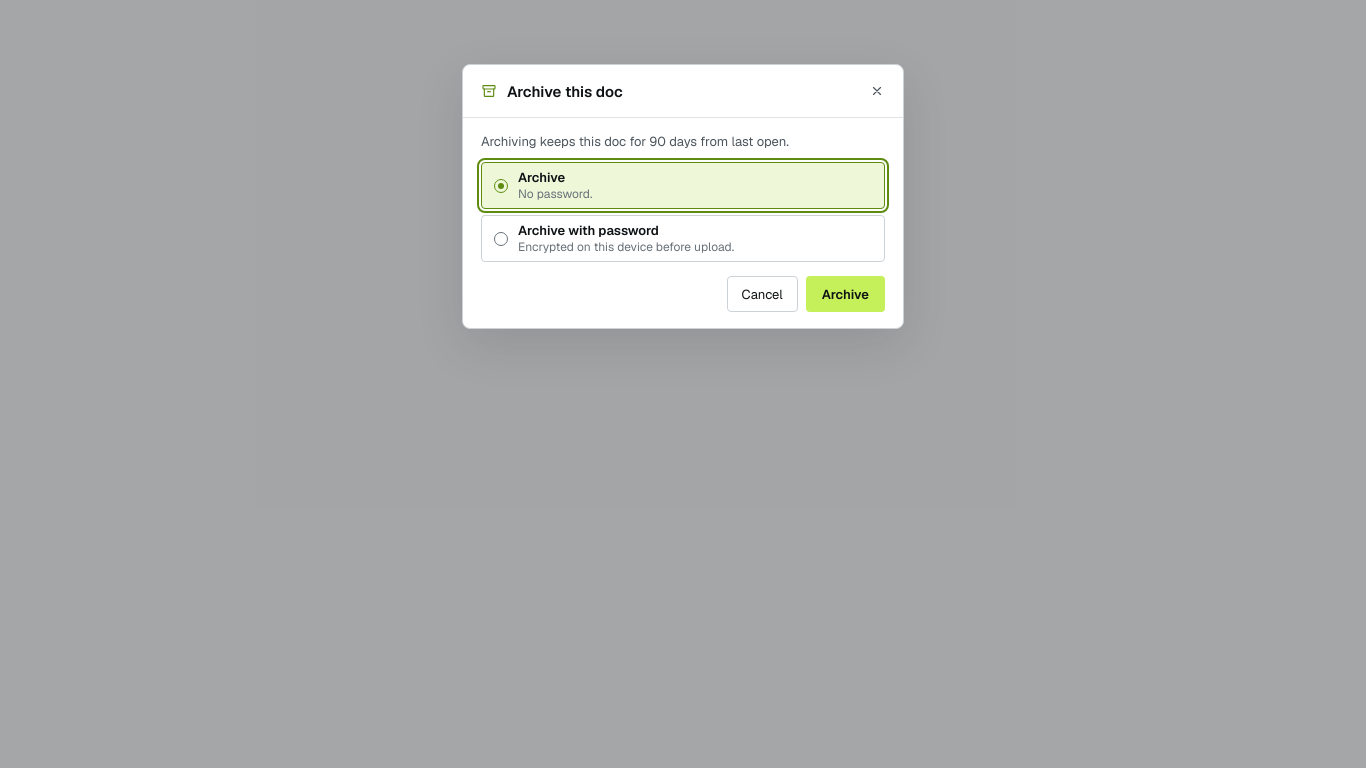
SaveModal encrypt path with images › shows "Waiting for the upload limit" while the upload limiter holds the flow
Click the radio button labelled "Archive with password". click: x=683, y=238
box: [481,215,885,262]
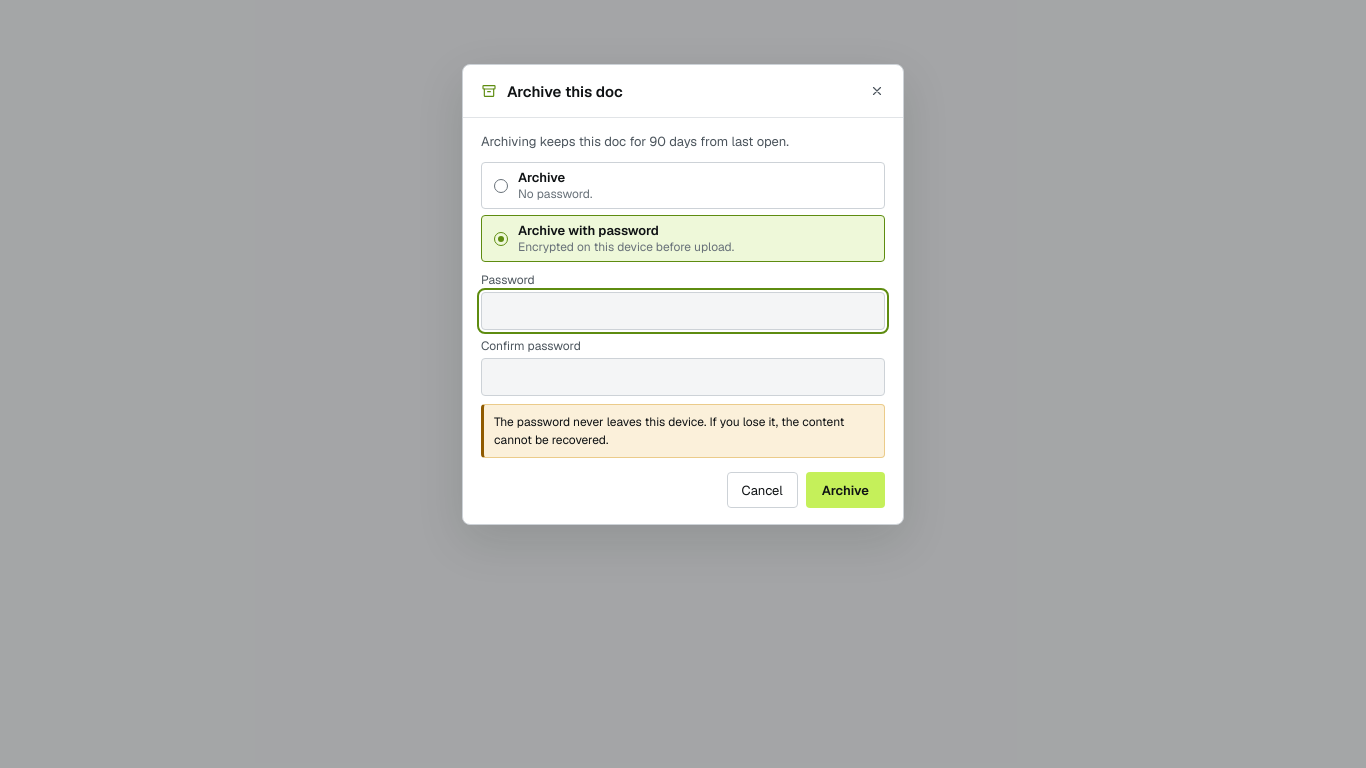
Type "password123" into the password field labelled "Password". click: x=683, y=311
box: [481,292,885,330]
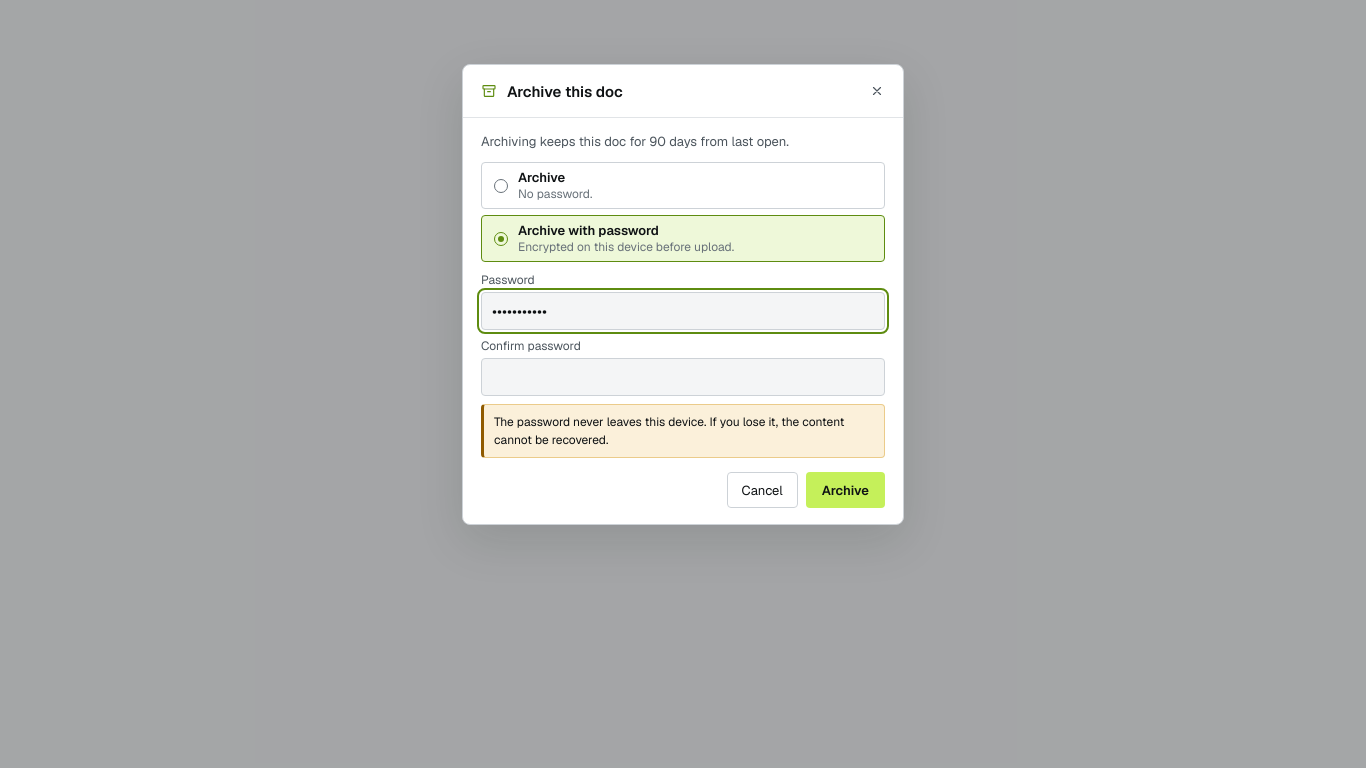
Type "password123" into the password field labelled "Confirm password". click: x=683, y=377
box: [481,358,885,396]
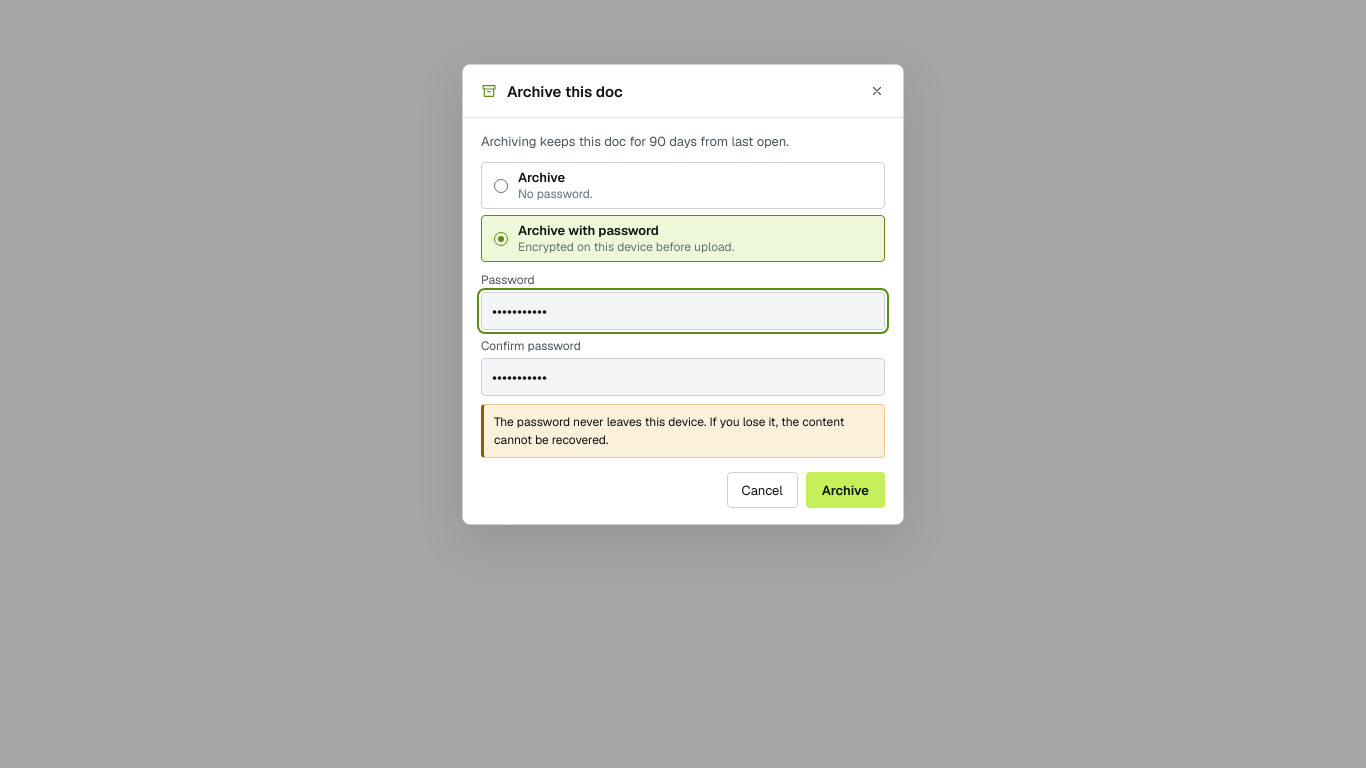
Click the button "Archive". click: x=845, y=490
box: [806,472,885,508]
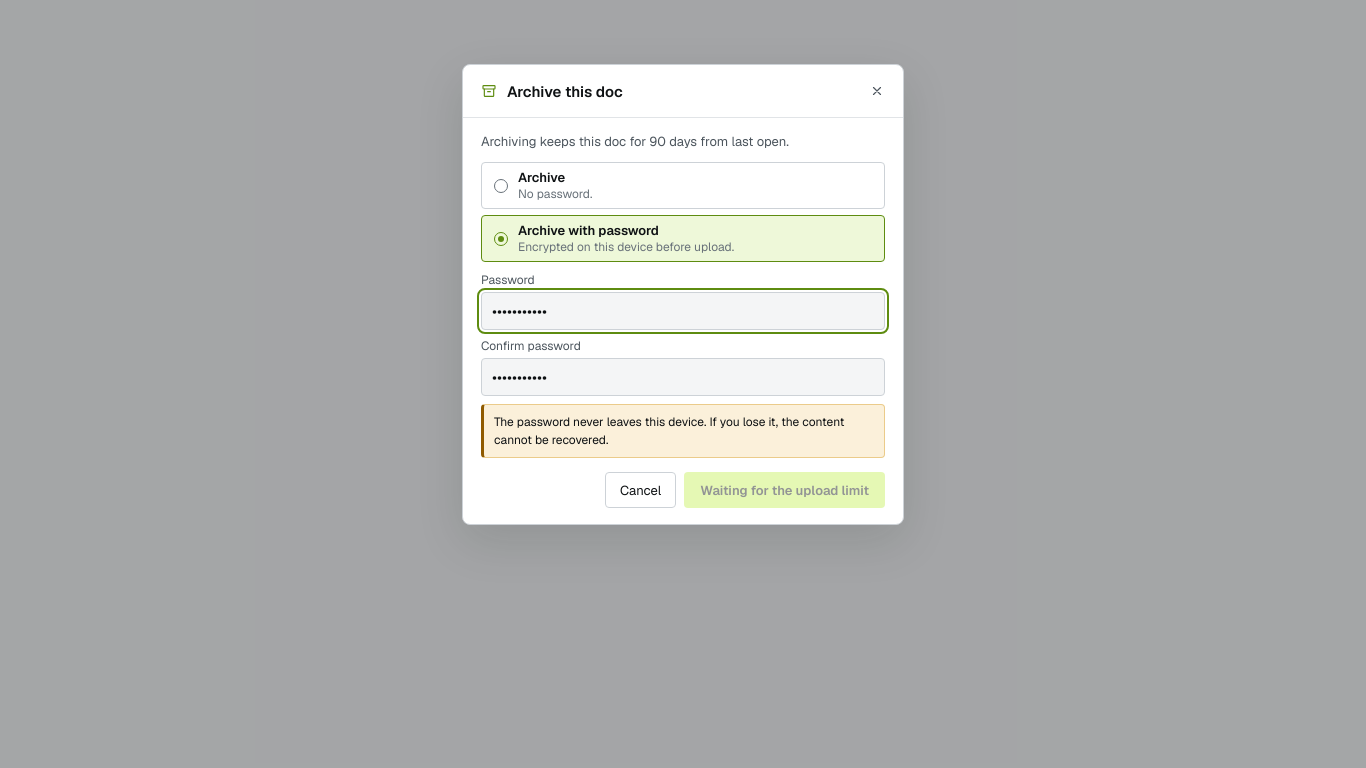
Expected: the button "Waiting for the upload limit" is disabled, [684,472,885,508]
